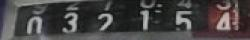digits: (170, 11, 198, 36), (23, 14, 43, 40), (135, 10, 156, 34), (214, 12, 232, 38), (96, 13, 115, 36), (62, 13, 79, 36)
